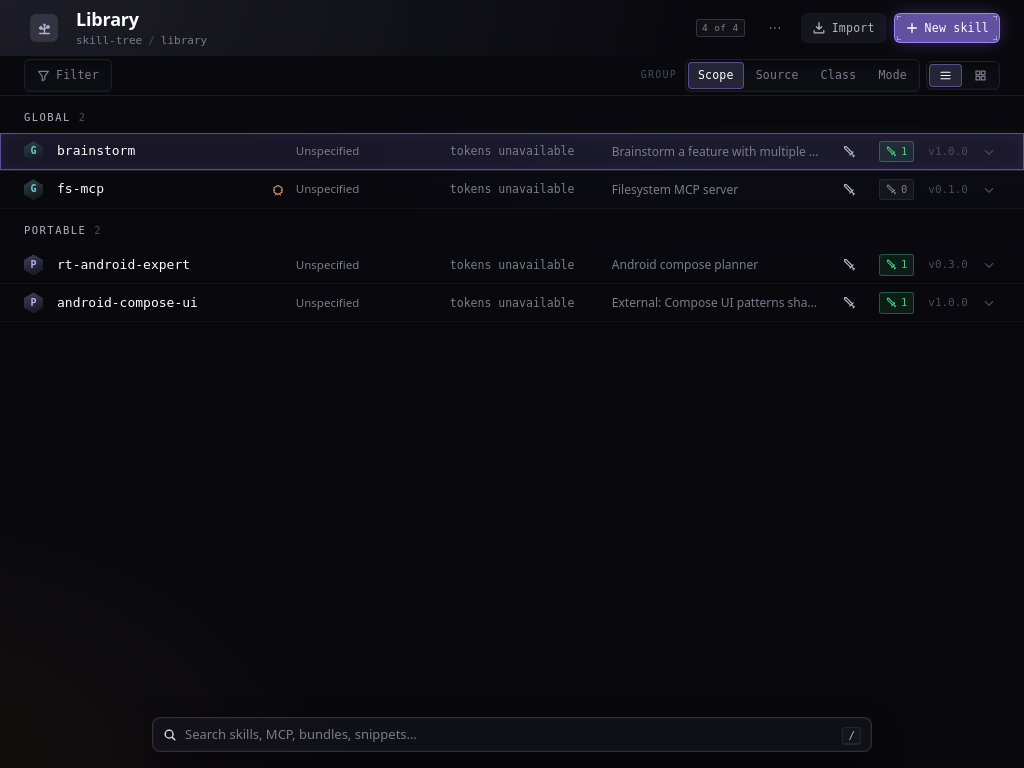
Test: SkillLibrary — roving nav wiring › `e` on the focused row opens the equip picker; typing the filter does not move focus
Expected: the element with class "lib-list" is shown, [0,96,1023,322]
Step 1. Type "b" into the field with placeholder "Search skills, MCP, bundles, snippets…" → (510, 734), box [185,725,834,744]
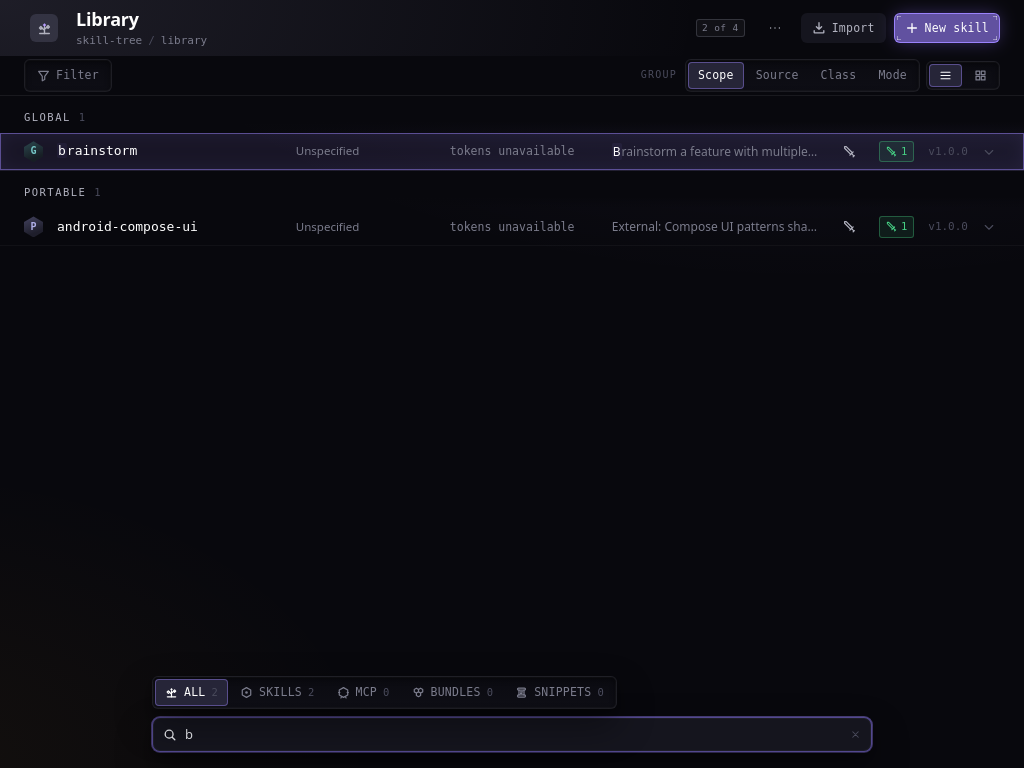
// `e` on the list opens the skill→projects equip picker.
Step 2. Press e in the element with class "lib-list", box [0,96,1023,246]
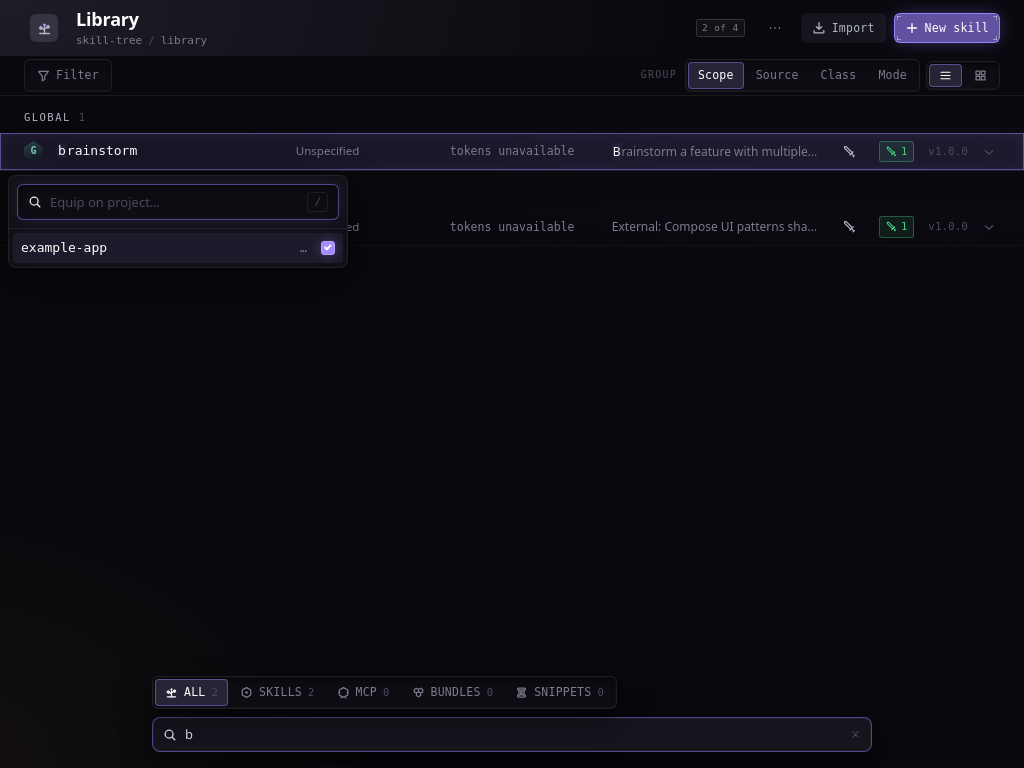
Result: the element with class "equip-picker" is shown at [8,175,348,268]
